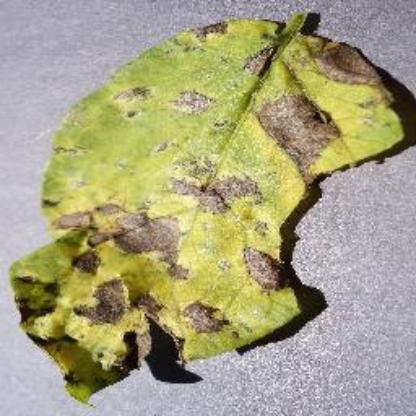Early-Blight: (10, 0, 416, 410)
